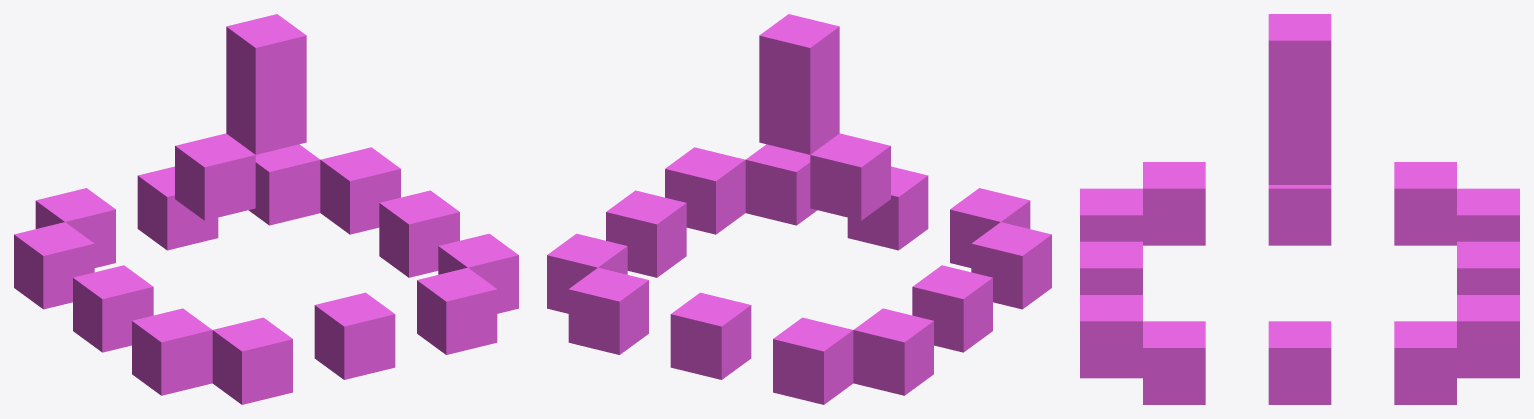
3 renders of one model, left to right at view 1: azimuth 30°, elevation 25°; view 2: azimuth 150°, elevation 25°; view 3: azimuth 270°, elevation 25°, orthographic. The views are drawn at different scales.
Parts seen in each view (by area): view 1: 99.1; view 2: 99.1; view 3: 99.1.
Boxes of the visible parts, bbox=[...] form: 99.1: bbox=[14, 14, 518, 404]; 99.1: bbox=[547, 14, 1051, 404]; 99.1: bbox=[1080, 14, 1519, 404].
Bounding box in the file's own units: 70 × 50 × 70.
Materials: 1 (1 with a texture image).
